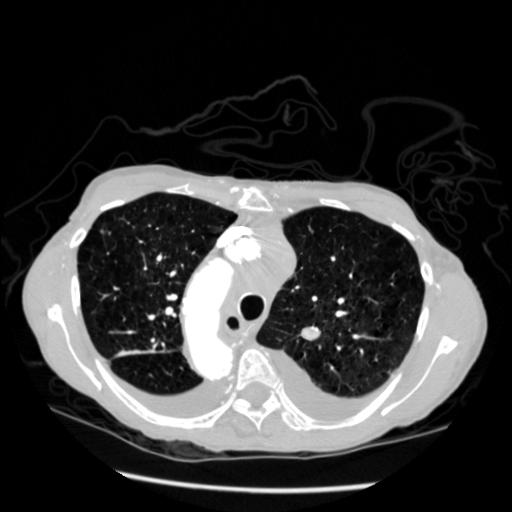nodule: (301, 323, 324, 346)
